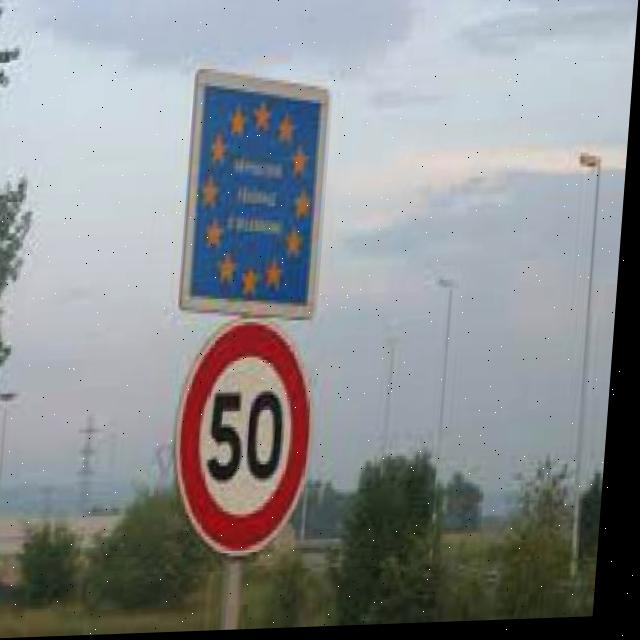Speed limit 50: (173, 317, 328, 563)
